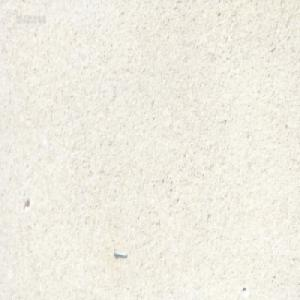Nail: (111, 248, 126, 258)
